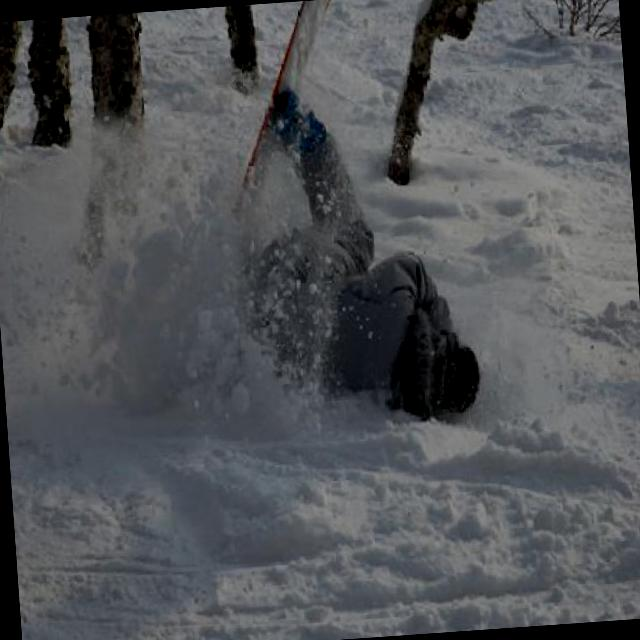Person: (239, 80, 483, 426)
